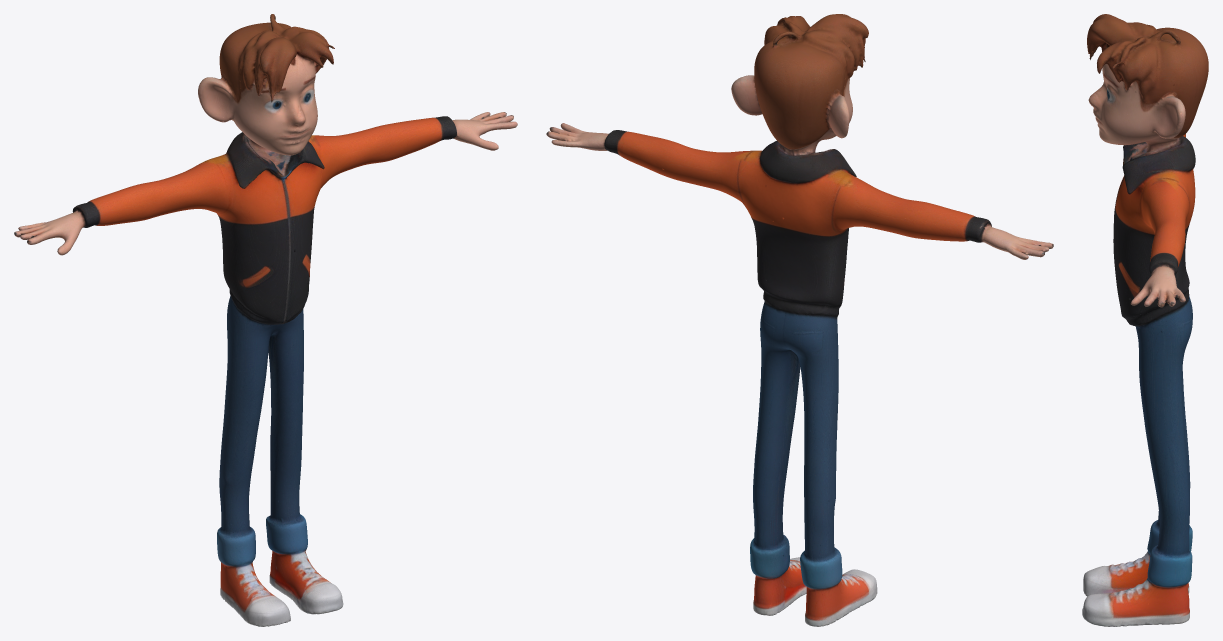
Rendered from Meshy_AI_T_Pose_Hero_in_an_Ora_0715164913_texture.fbx.
The picture shows the model from 3 angles, left to right: view 1: azimuth 30°, elevation 25°; view 2: azimuth 150°, elevation 25°; view 3: azimuth 270°, elevation 25°; orthographic projection.
Visible parts, largest first — view 1: Mesh_0; view 2: Mesh_0; view 3: Mesh_0.
Part boxes in pixels (bbox=[...]): Mesh_0: bbox=[14, 14, 517, 626]; Mesh_0: bbox=[546, 14, 1053, 626]; Mesh_0: bbox=[1082, 14, 1208, 626].
Size of the model in its own units: 180 by 200 by 39.44.
1 material, 1 textured.
